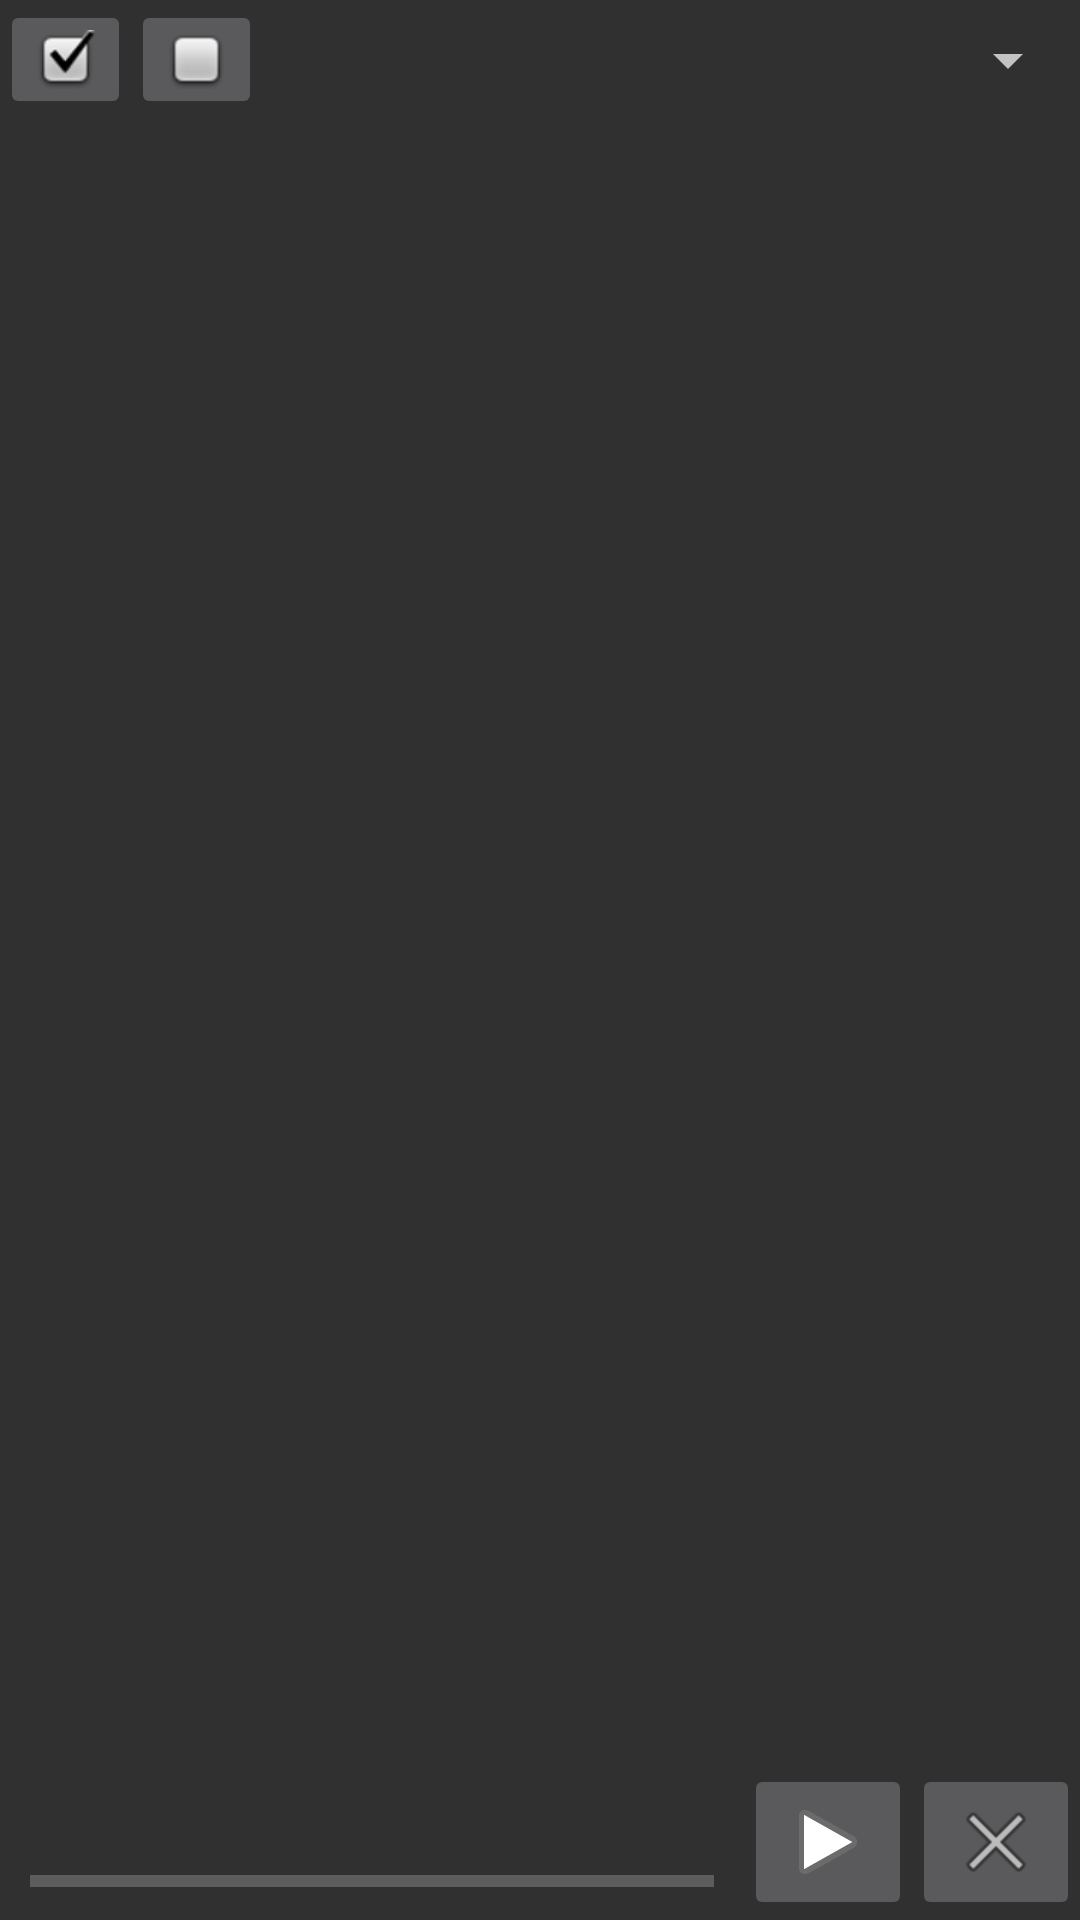

Icon click points for this 1080x1920 phone screenshot, format point (x, y):
Stop: point (996, 1842)
